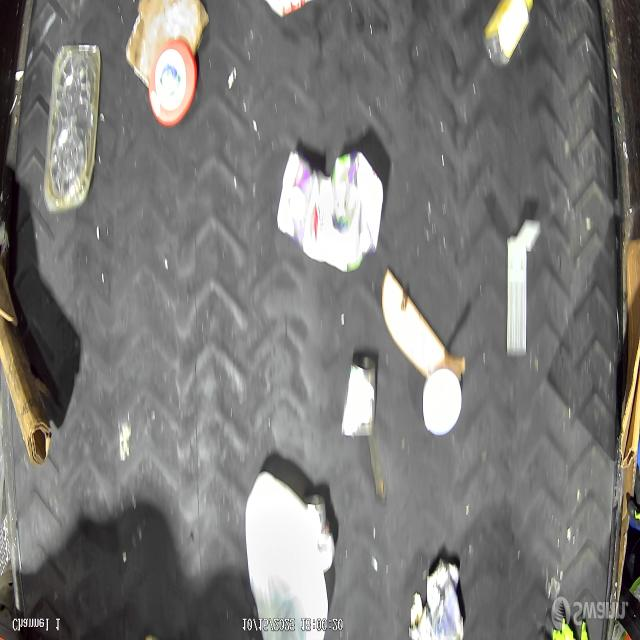can: (341, 355, 377, 437), (428, 559, 464, 640), (409, 590, 432, 640)
milk_jug: (245, 469, 327, 640)
non_white_jug: (277, 149, 384, 271)
